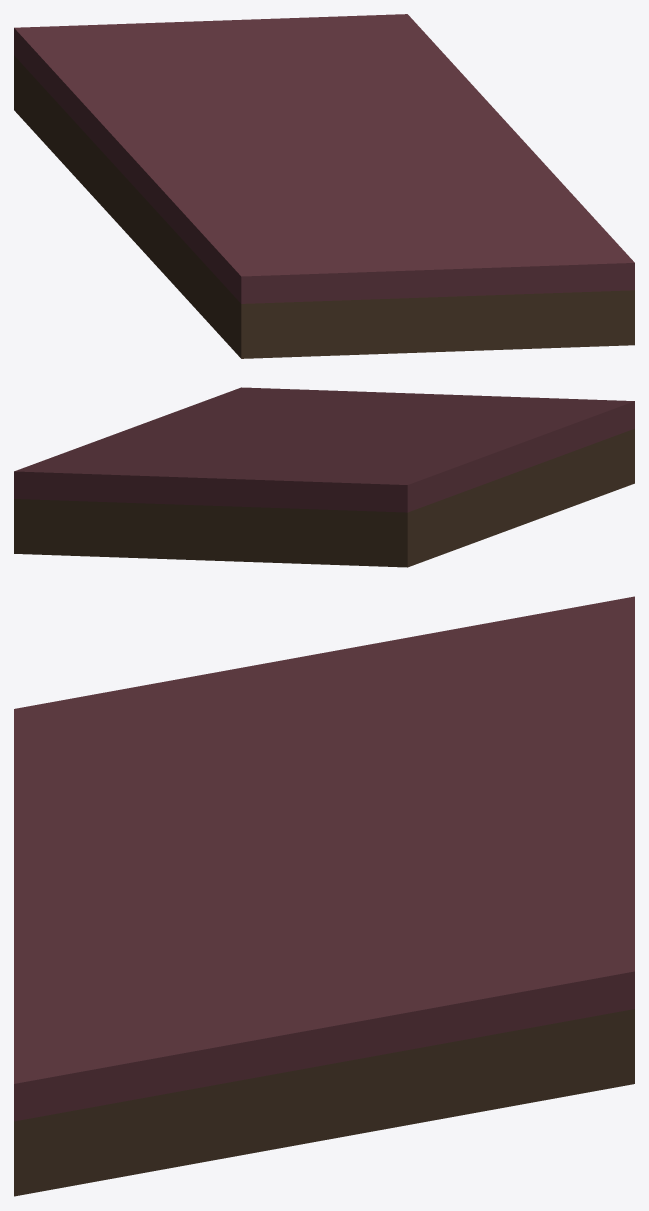
File: tile-hill-askew.fbx
3 views of the same model, one above another, from view 1: azimuth 30°, elevation 25°; view 2: azimuth 150°, elevation 25°; view 3: azimuth 270°, elevation 25° (orthographic). The views are drawn at different scales.
Visible parts, largest first — view 1: tile-hill-askew; view 2: tile-hill-askew; view 3: tile-hill-askew.
Boxes of the visible parts, x1=… form: tile-hill-askew: x1=14, y1=14, x2=634, y2=358; tile-hill-askew: x1=14, y1=387, x2=634, y2=567; tile-hill-askew: x1=14, y1=596, x2=634, y2=1196.
Bounding box in the file's own units: 30 × 18 × 30.
